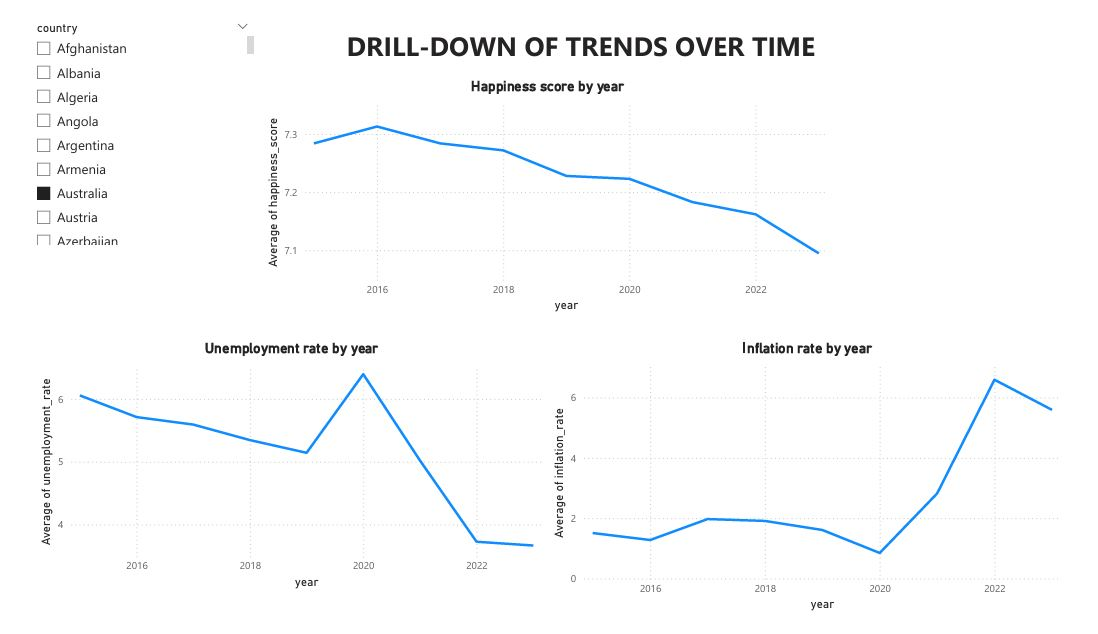

Layout of this report page (visuals, bound fields, positions):
{"tool":"powerbi","page":{"name":"Drill-down of trends over time per country","canvas":[1280,720],"ordinal":3},"visuals":[{"type":"slicer","fields":{"Values":["happiness inflation unemployment.country"]},"box":[10,0,280,280],"z":0},{"type":"lineChart","title":"Happiness score by year","fields":{"Y":["Avg(happiness inflation unemployment.happiness_score)"],"Category":["happiness inflation unemployment.year"]},"box":[294.2,73.2,689.2,287.3],"z":1000},{"type":"lineChart","title":"Unemployment rate by year","fields":{"Y":["Avg(happiness inflation unemployment.unemployment_rate)"],"Category":["happiness inflation unemployment.year"]},"box":[20.7,389.5,618.7,303.8],"z":2000},{"type":"lineChart","title":"Inflation rate by year","fields":{"Y":["Avg(happiness inflation unemployment.inflation_rate)"],"Category":["happiness inflation unemployment.year"]},"box":[639.4,389.5,624.3,330.1],"z":3000},{"type":"textbox","box":[390.9,6.9,668.5,66.3],"z":4000}]}

Visuals, with their boxes in screenshot pixels (x1, y1, x2, y2), scaled from the page's 1280x720 canvas onto the 1098x634 screenshot:
slicer - happiness inflation unemployment.country: Rect(9, 0, 249, 247)
"Happiness score by year" lineChart: Rect(252, 64, 844, 317)
"Unemployment rate by year" lineChart: Rect(18, 343, 548, 610)
"Inflation rate by year" lineChart: Rect(548, 343, 1084, 633)
textbox: Rect(335, 6, 909, 64)
